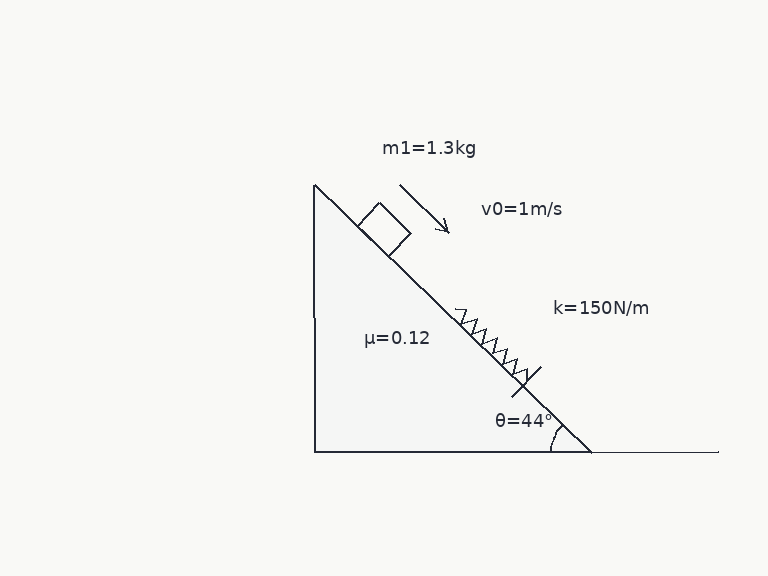block: (355, 200, 413, 258)
ramp: (312, 183, 593, 454)
spring: (454, 307, 530, 381)
